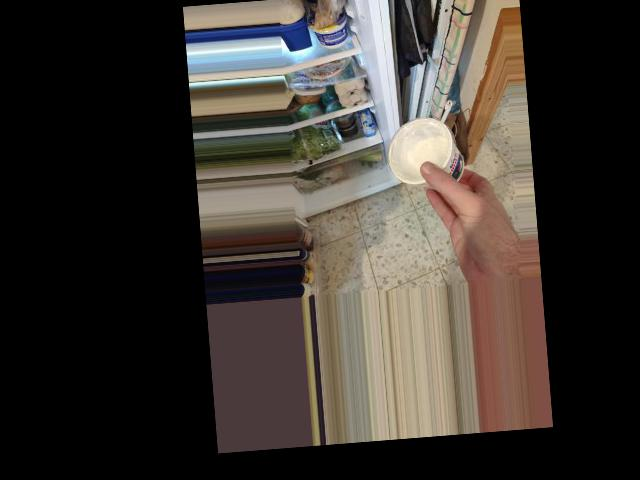cotage: (384, 109, 471, 193)
